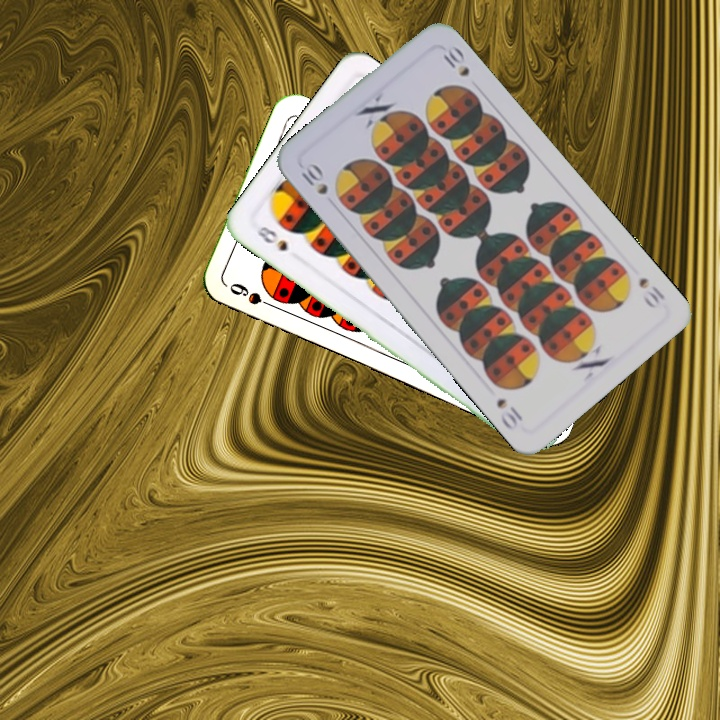S10: (297, 161, 331, 198), (634, 273, 668, 305)
S8: (252, 222, 290, 254)
S9: (225, 278, 280, 312)
